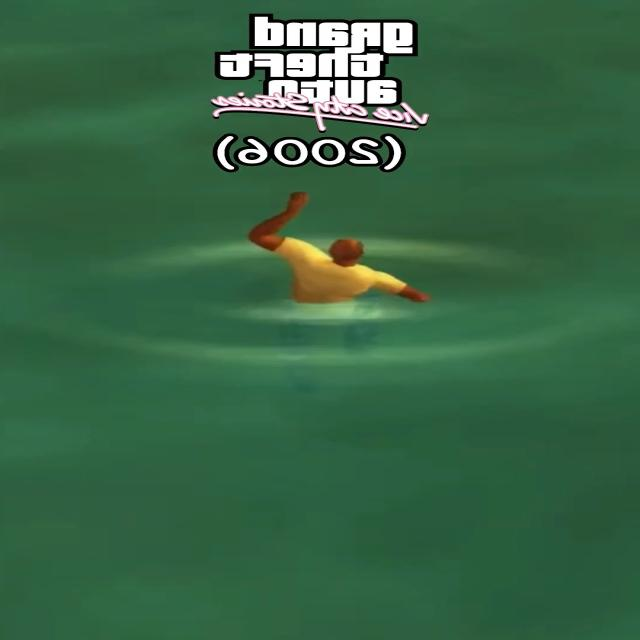drowning: (240, 184, 436, 364)
